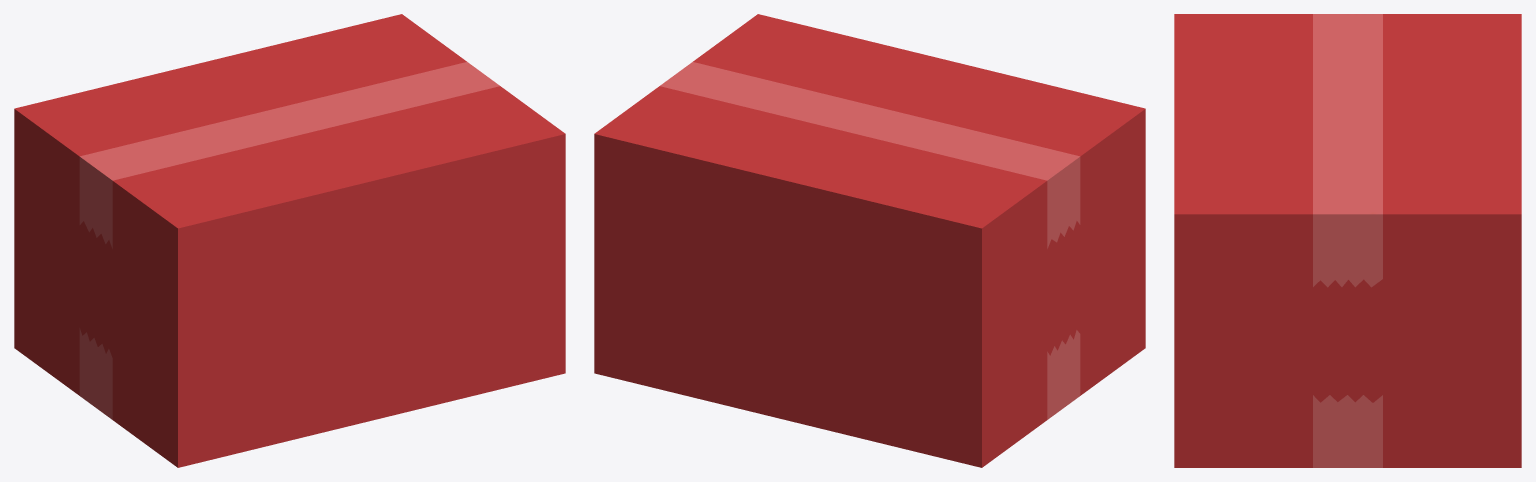
The model's file is red_box_0402.fbx.
The picture shows the model from 3 angles, left to right: view 1: azimuth 30°, elevation 25°; view 2: azimuth 150°, elevation 25°; view 3: azimuth 270°, elevation 25°; orthographic projection. The views are drawn at different scales.
Parts seen in each view (by area): view 1: Box; view 2: Box; view 3: Box.
Part boxes in pixels (<box>): Box: <box>14,14,565,467</box>; Box: <box>594,14,1145,467</box>; Box: <box>1174,14,1521,467</box>.
Size of the model in its own units: 83.39 by 49.21 by 61.03.
Materials: 1 (1 with a texture image).
